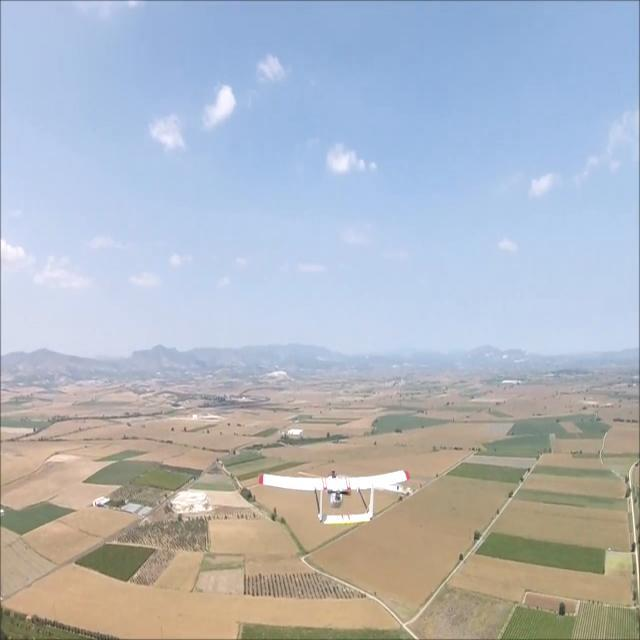iha: (257, 469, 416, 528)
